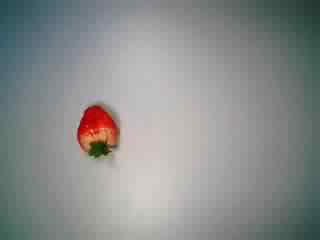strawberry: (58, 100, 126, 164)
